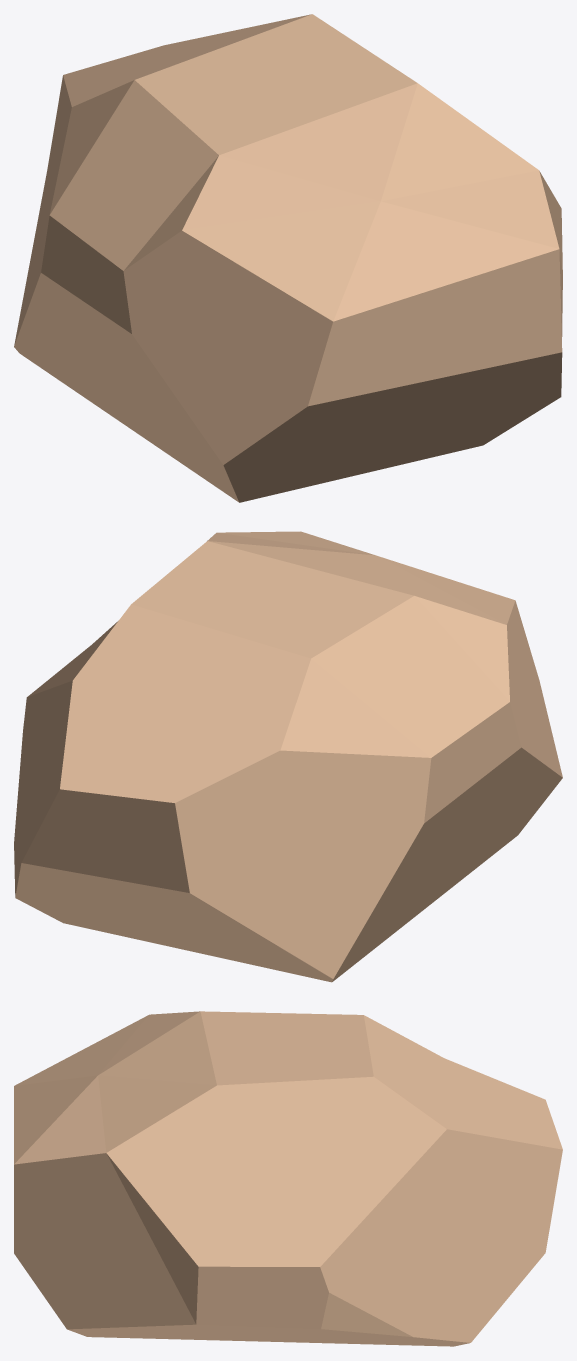
The model's file is Rock2.fbx.
3 views of the same model, one above another, from view 1: azimuth 30°, elevation 25°; view 2: azimuth 150°, elevation 25°; view 3: azimuth 270°, elevation 25° (orthographic). The views are drawn at different scales.
Parts seen in each view (by area): view 1: Cube.001; view 2: Cube.001; view 3: Cube.001.
Part boxes in pixels (bbox=[...]): Cube.001: bbox=[14, 14, 562, 502]; Cube.001: bbox=[14, 531, 562, 982]; Cube.001: bbox=[14, 1011, 562, 1346].
Size of the model in its own units: 188 by 125 by 239.
